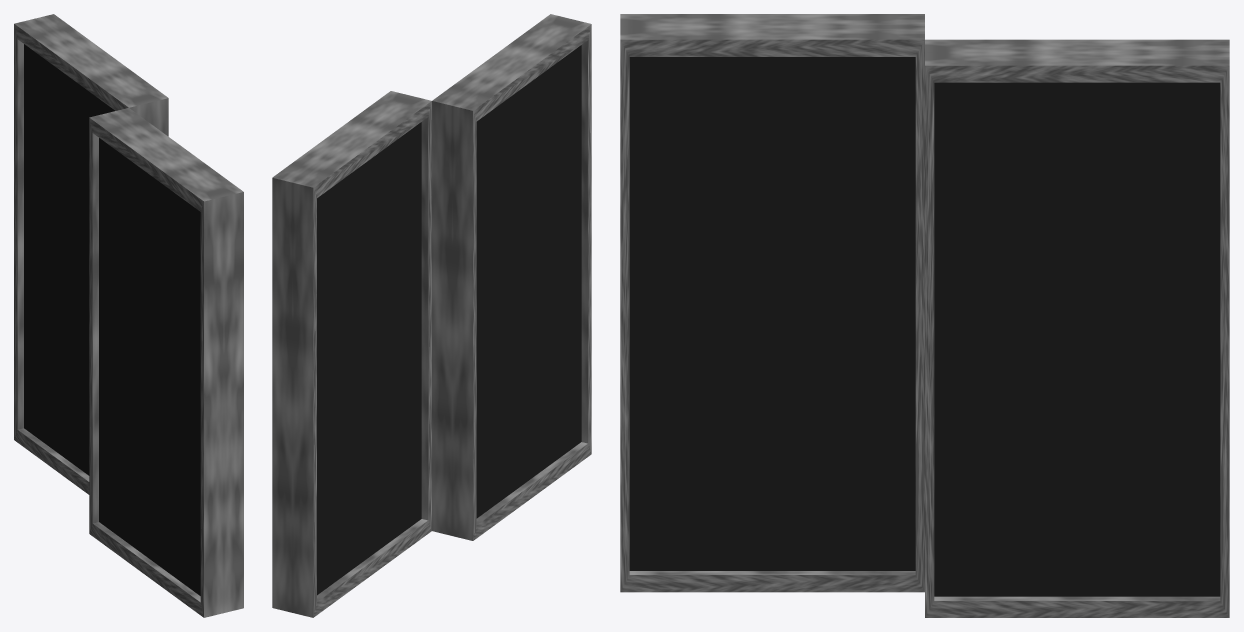
Rendered from W-Door.fbx.
3 renders of one model, left to right at view 1: azimuth 30°, elevation 25°; view 2: azimuth 150°, elevation 25°; view 3: azimuth 270°, elevation 25°, orthographic. The views are drawn at different scales.
Parts seen in each view (by area): view 1: Door; view 2: Door; view 3: Door.
Part boxes in pixels (<box>): Door: <box>14,14,243,617</box>; Door: <box>272,14,591,617</box>; Door: <box>620,14,1229,617</box>.
Bounding box in the file's own units: 40 × 200 × 200.
Materials: 2 (1 with a texture image).
